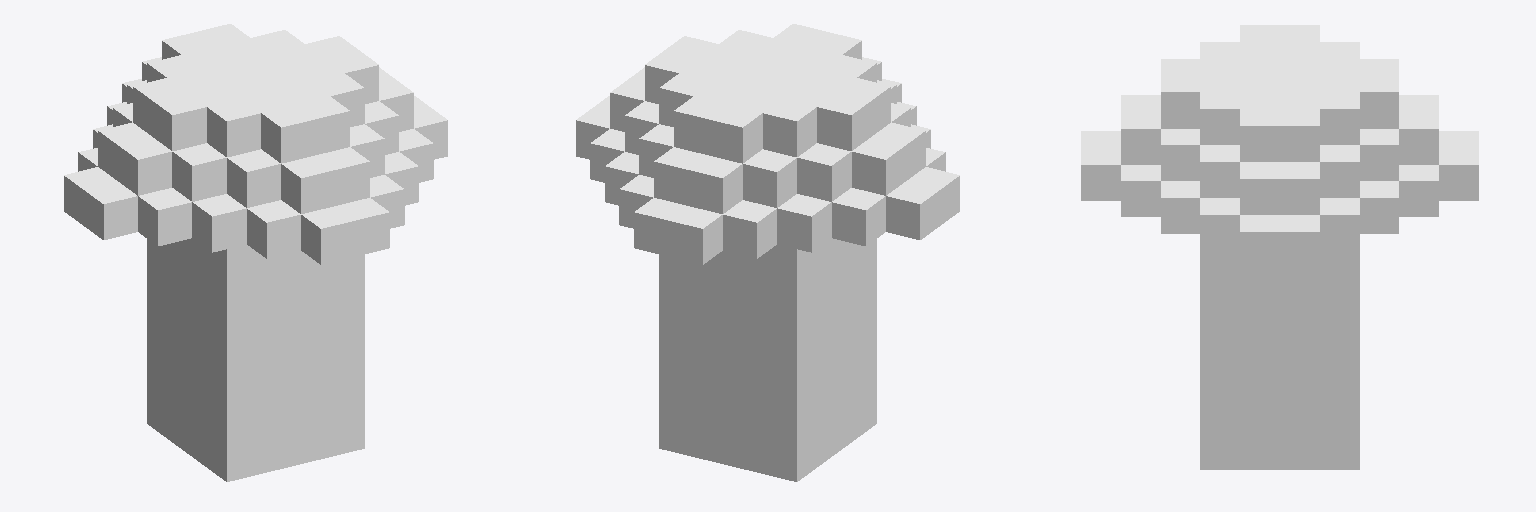
The model's file is mushrrom4.obj.
3 renders of one model, left to right at view 1: azimuth 30°, elevation 25°; view 2: azimuth 150°, elevation 25°; view 3: azimuth 270°, elevation 25°, orthographic.
Parts seen in each view (by area): view 1: object 1; view 2: object 1; view 3: object 1.
Part boxes in pixels (bbox=[...]): object 1: bbox=[64, 24, 447, 481]; object 1: bbox=[576, 24, 959, 481]; object 1: bbox=[1081, 25, 1478, 469].
Bounding box in the file's own units: 1 × 1 × 1.